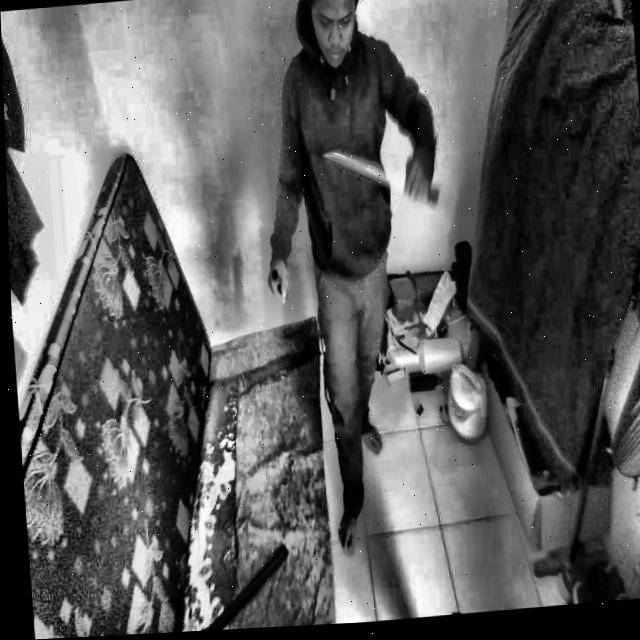pisau: (309, 144, 450, 204)
